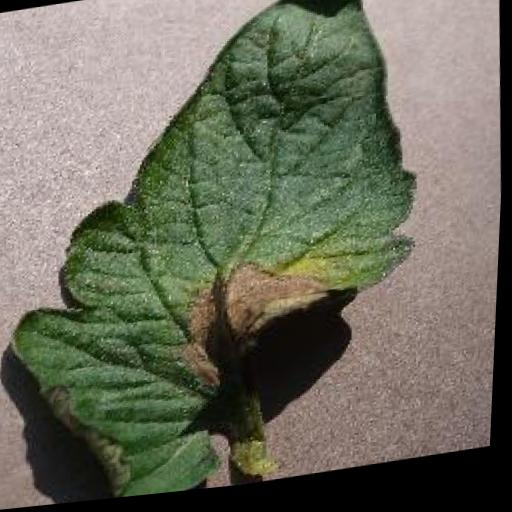Late Blight: (0, 0, 443, 511)
